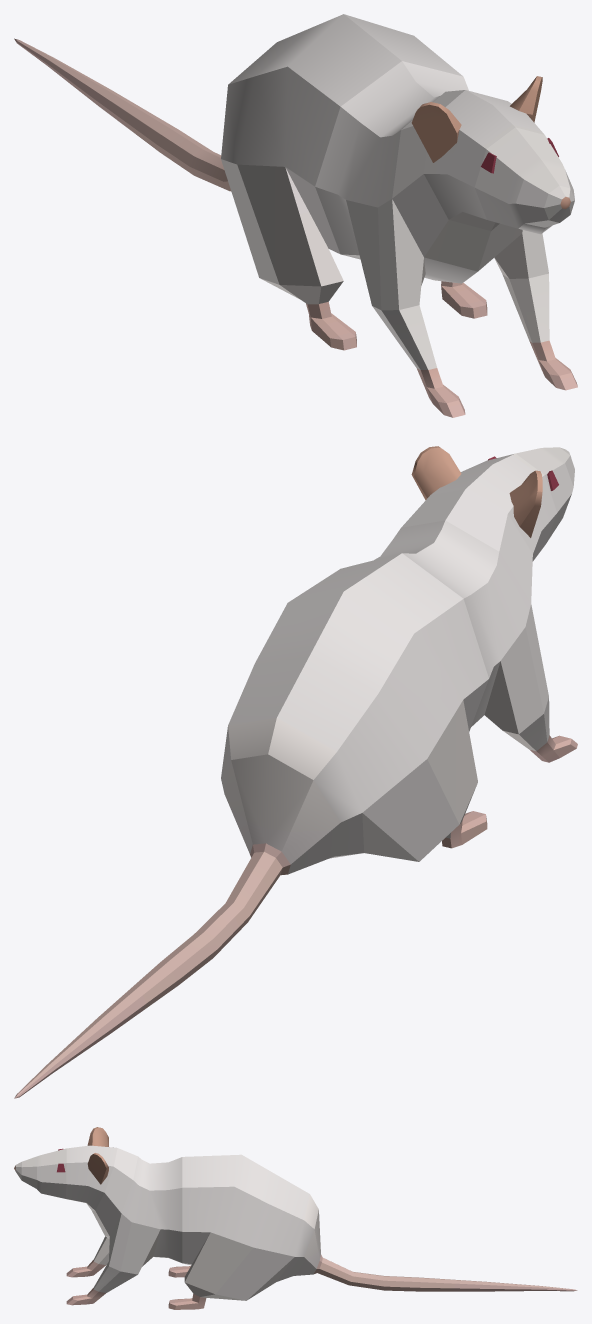
The model's file is 6hsesZHvcPI.glb.
3 renders of one model, top to bottom at view 1: azimuth 30°, elevation 25°; view 2: azimuth 150°, elevation 25°; view 3: azimuth 270°, elevation 25°, orthographic. The views are drawn at different scales.
Visible parts, largest first — view 1: Geo_Rat; view 2: Geo_Rat; view 3: Geo_Rat.
Part boxes in pixels (bbox=[...]): Geo_Rat: bbox=[14, 14, 577, 417]; Geo_Rat: bbox=[14, 446, 577, 1098]; Geo_Rat: bbox=[14, 1127, 577, 1309].
Bounding box in the file's own units: 0.6725 × 1 × 3.39.
1 material, 1 textured.
